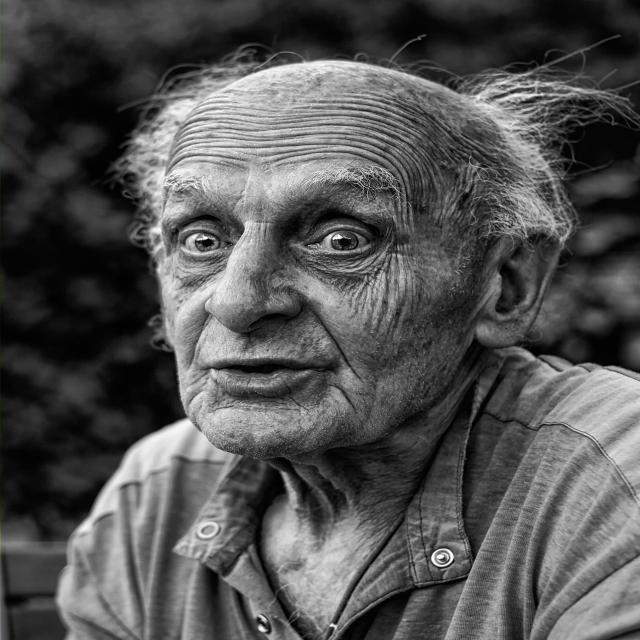front: (148, 148, 430, 434)
